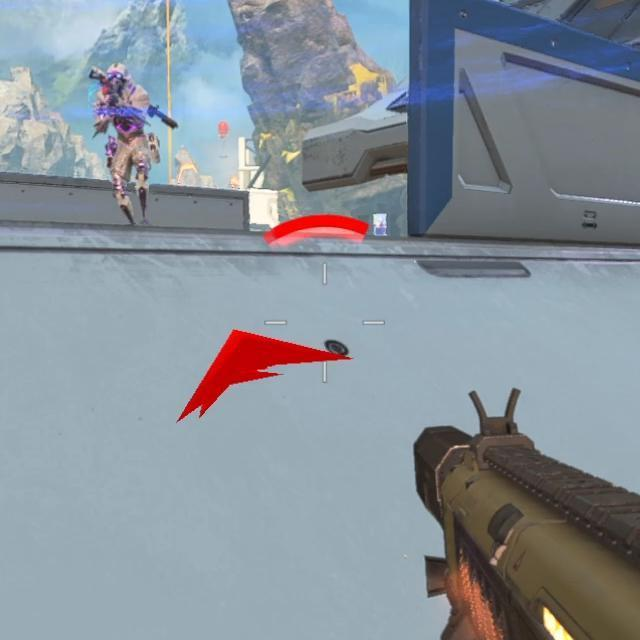avatar: (91, 60, 165, 229)
